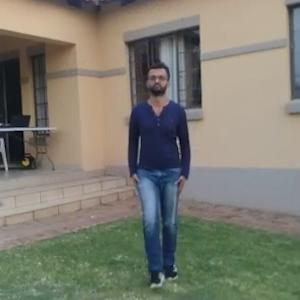follow: (124, 56, 192, 261)
